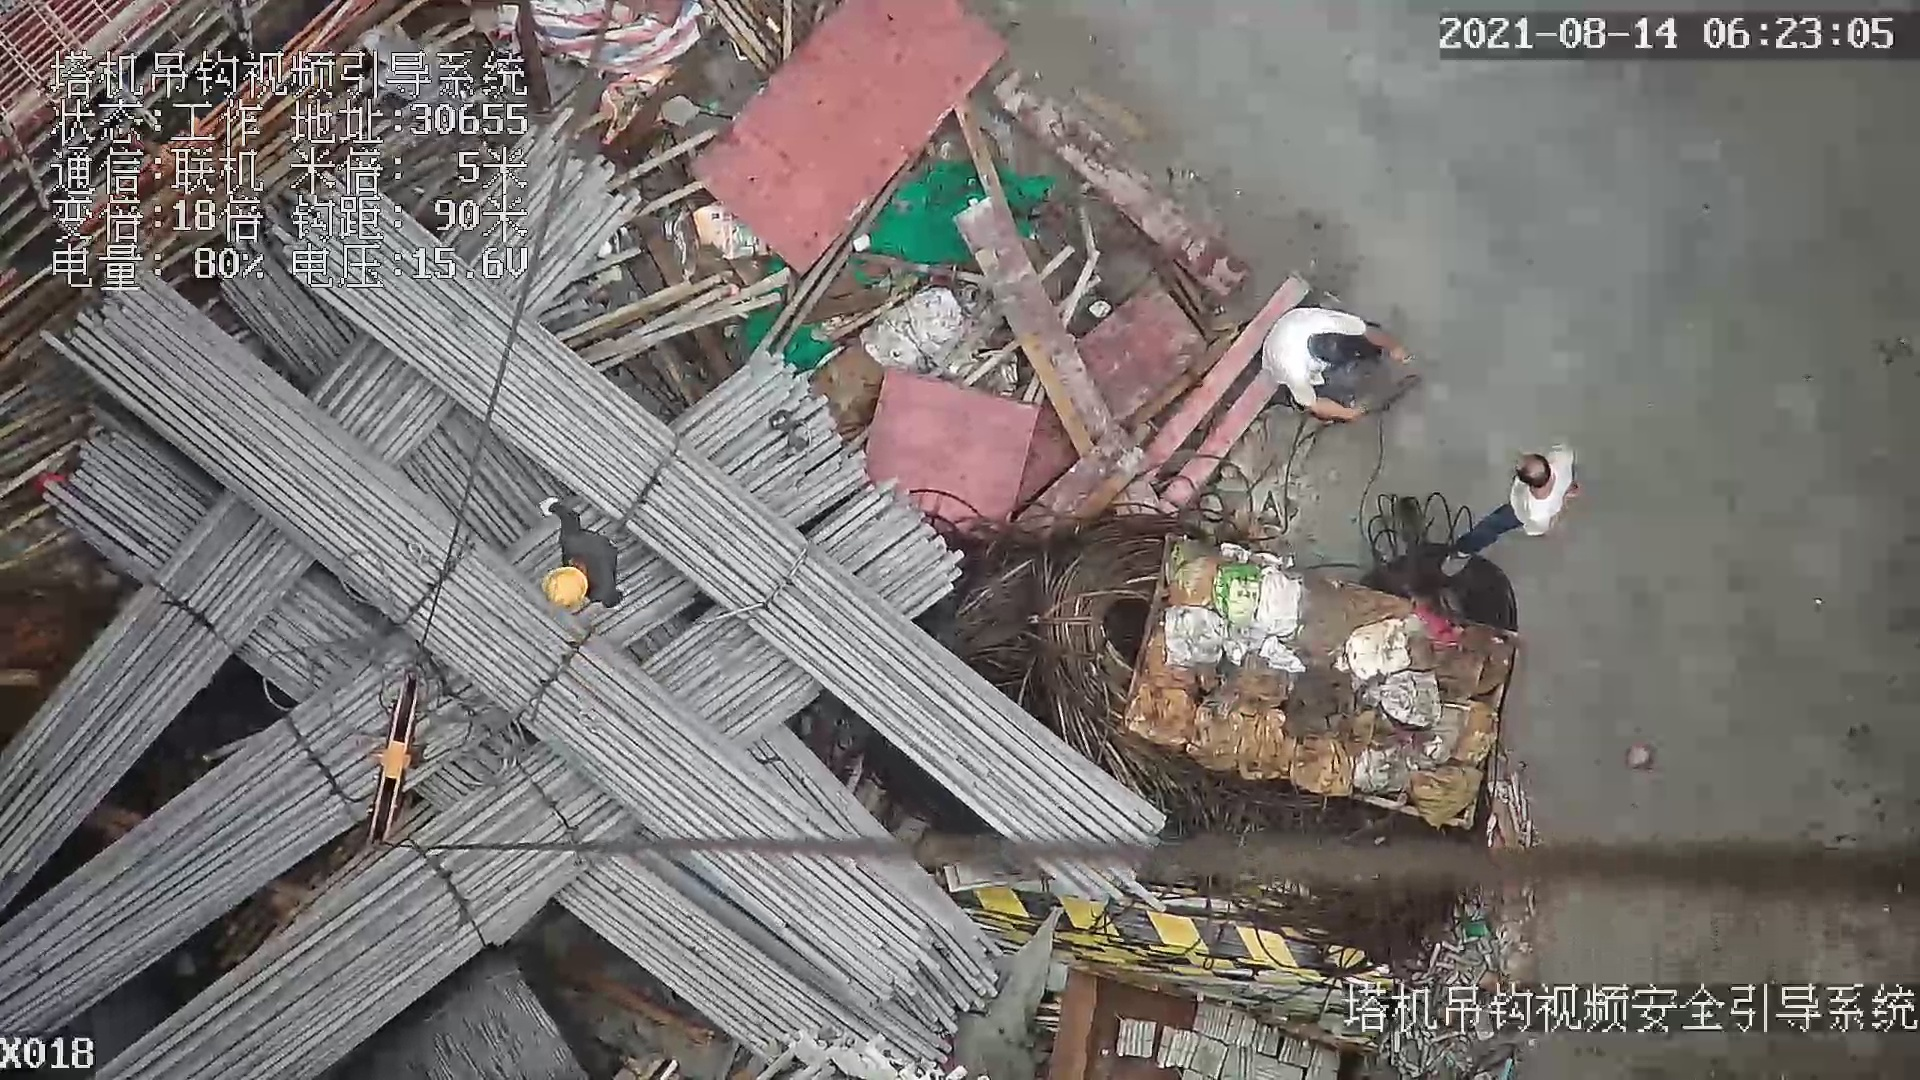board: (681, 4, 1015, 282)
helmet: (540, 563, 588, 609)
hook: (347, 644, 426, 855)
person: (1259, 304, 1409, 428), (1447, 435, 1586, 556), (529, 486, 627, 610)
